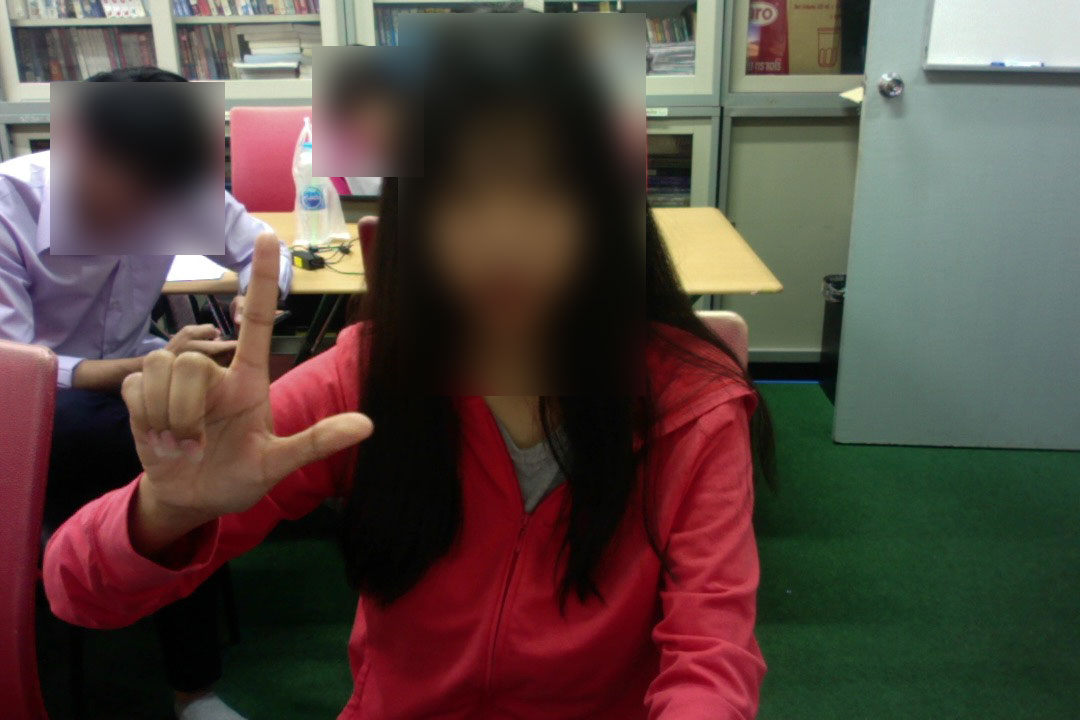lor: (88, 225, 374, 522)
